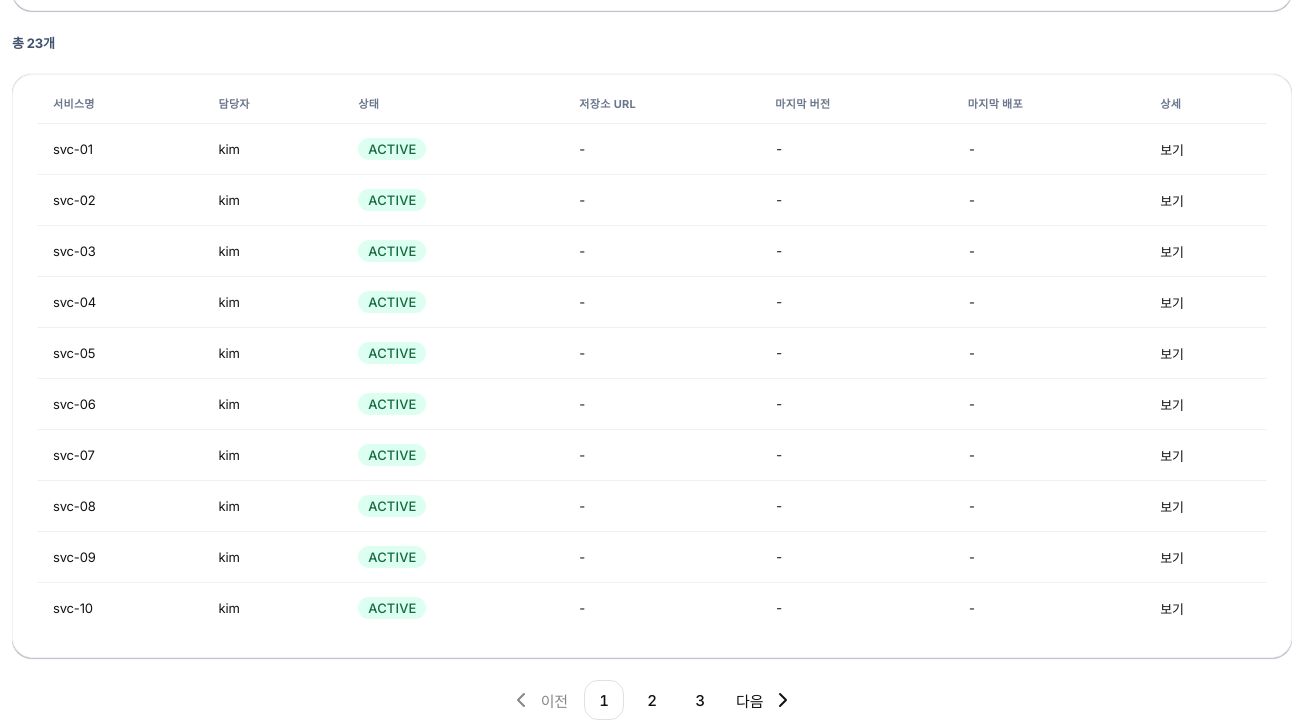
Test: ServiceList URL query state › writes ?page= to the URL when paginating
(page scrolled)
Click the link "다음" at [766, 700], box 736,688 -> 795,712
(page scrolled)
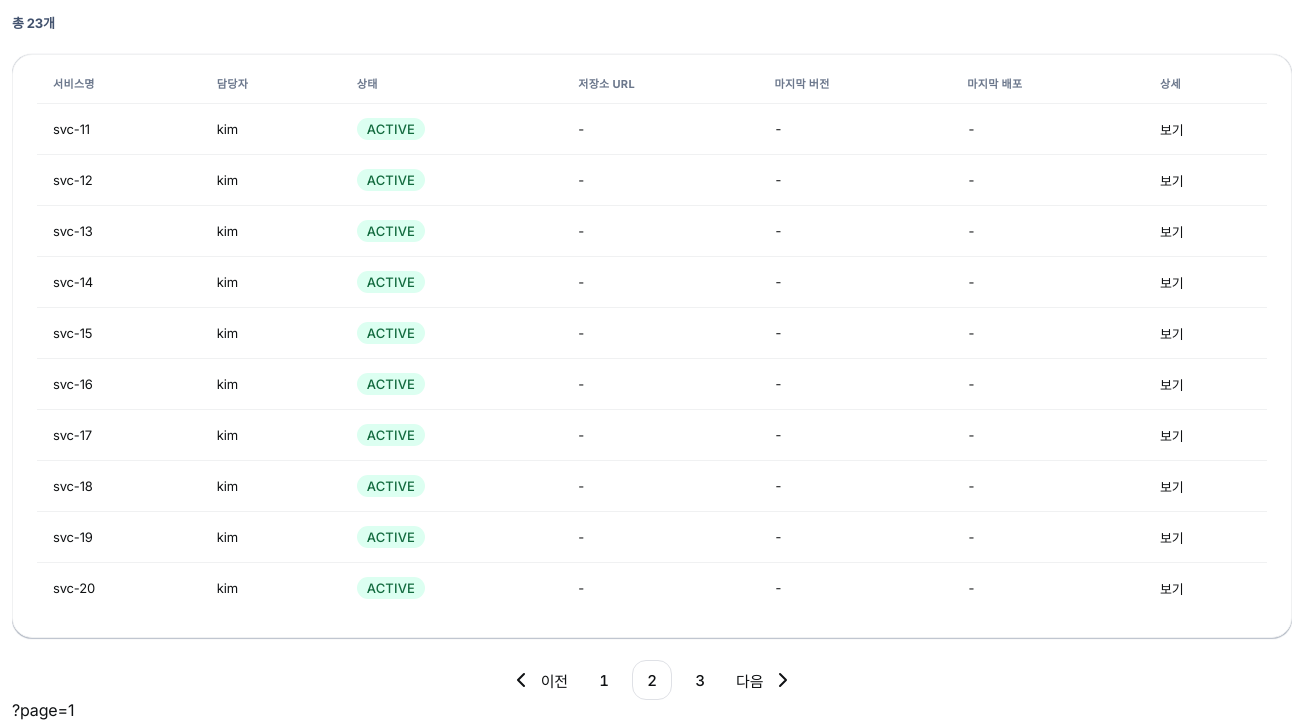
Expected: the text with test id "search" reads "?page=1", 12,700 -> 74,719
